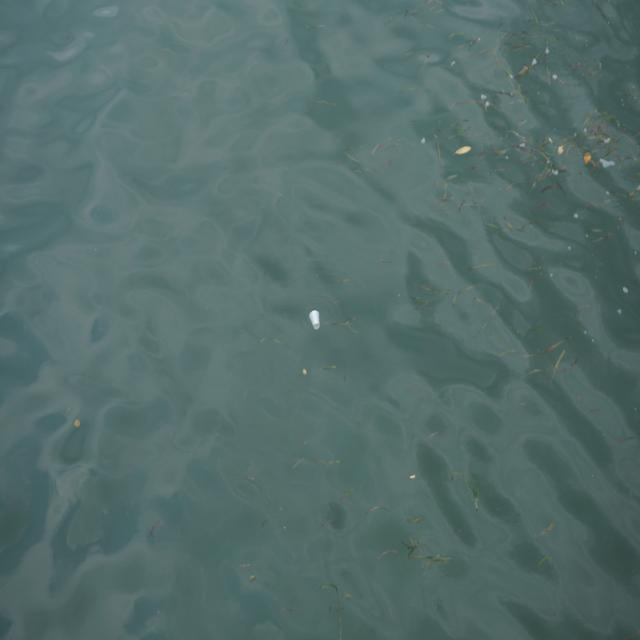Bungkus Minuman: (308, 305, 323, 337)
